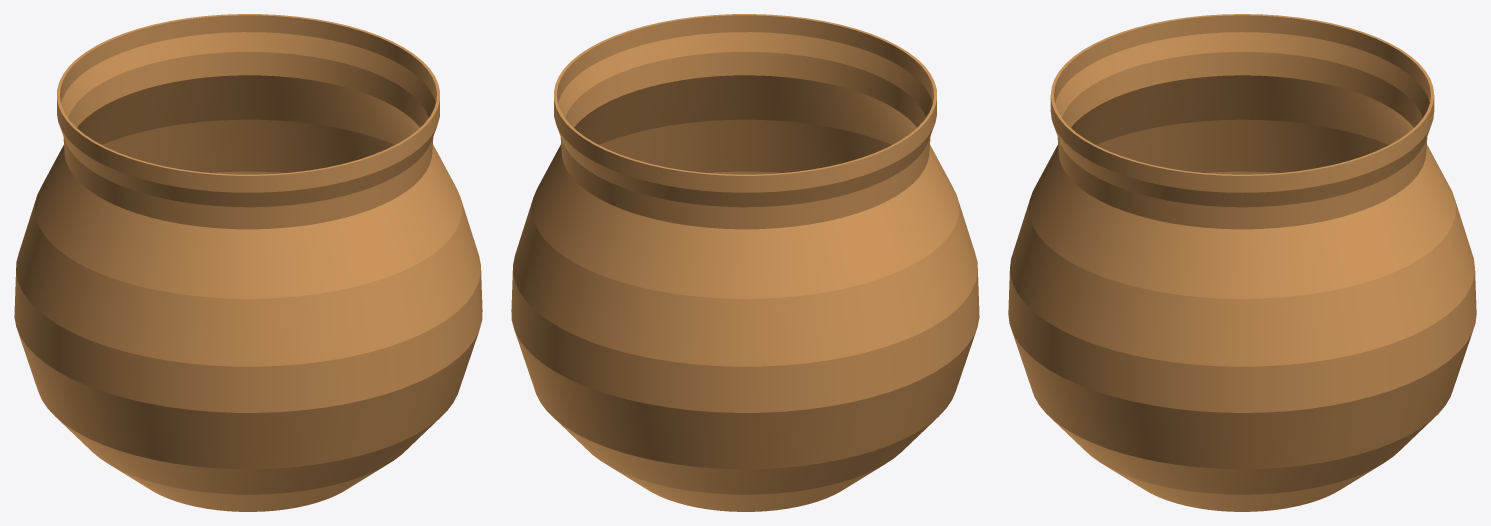
3 renders of one model, left to right at view 1: azimuth 30°, elevation 25°; view 2: azimuth 150°, elevation 25°; view 3: azimuth 270°, elevation 25°, orthographic.
Visible parts, largest first — view 1: pot; view 2: pot; view 3: pot.
Boxes of the visible parts, x1=… form: pot: x1=14, y1=14, x2=482, y2=511; pot: x1=511, y1=14, x2=979, y2=511; pot: x1=1008, y1=14, x2=1476, y2=511.
Bounding box in the file's own units: 0.149 × 0.1359 × 0.149.
